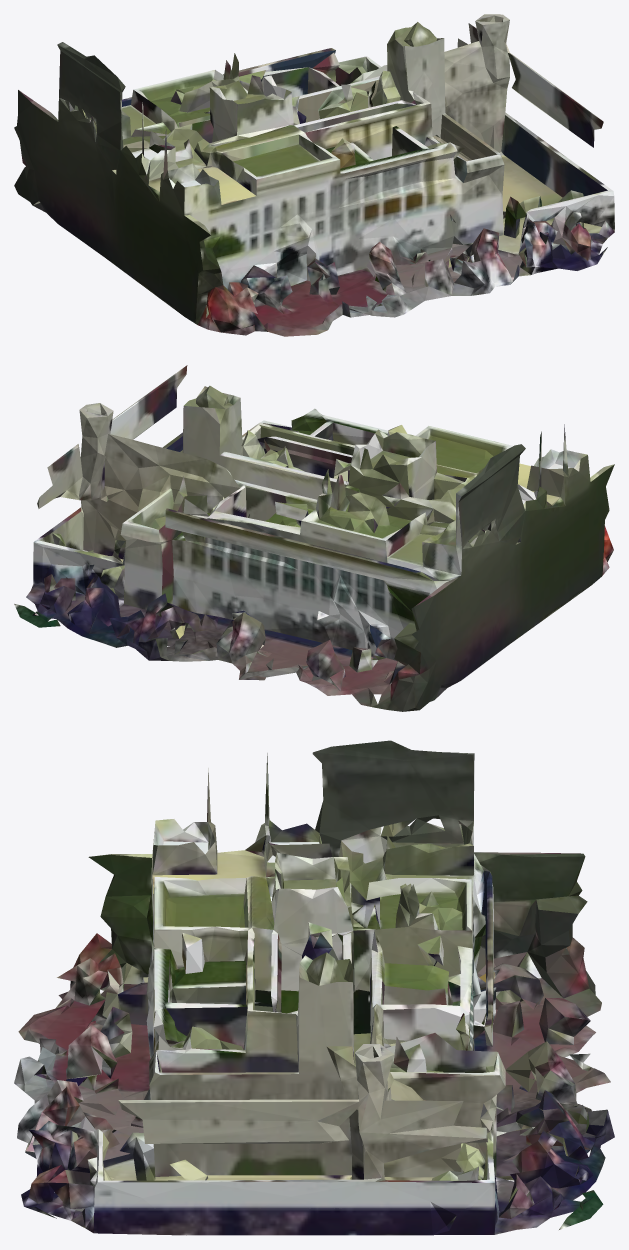
Rendered from palacio_roca.glb.
3 views of the same model, one above another, from view 1: azimuth 30°, elevation 25°; view 2: azimuth 150°, elevation 25°; view 3: azimuth 270°, elevation 25° (orthographic). The views are drawn at different scales.
Parts seen in each view (by area): view 1: tmpb0eoum09.ply; view 2: tmpb0eoum09.ply; view 3: tmpb0eoum09.ply.
Part boxes in pixels (x1,y1,x2,y2): tmpb0eoum09.ply: (14,14,614,336); tmpb0eoum09.ply: (14,365,614,711); tmpb0eoum09.ply: (14,740,614,1235).
Bounding box in the file's own units: 2 × 0.8968 × 1.99.
Materials: 1 (1 with a texture image).
